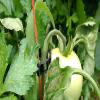Tomato leaf mosaic virus: (3, 43, 39, 96)
